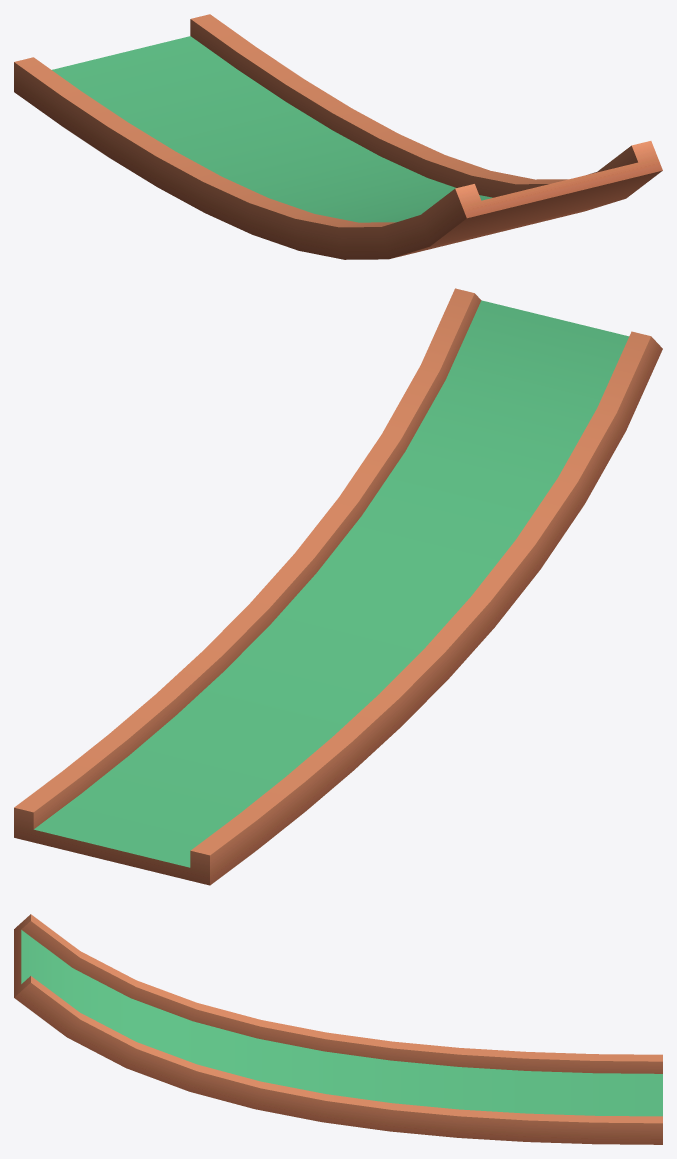
The model's file is spline-default-straight-hill-beginning.glb.
The picture shows the model from 3 angles, top to bottom: view 1: azimuth 30°, elevation 25°; view 2: azimuth 150°, elevation 25°; view 3: azimuth 270°, elevation 25°; orthographic projection. The views are drawn at different scales.
Parts seen in each view (by area): view 1: spline-default-straight-hill-beginning; view 2: spline-default-straight-hill-beginning; view 3: spline-default-straight-hill-beginning.
Part boxes in pixels (box(x1,y1,x2,y2)): spline-default-straight-hill-beginning: box(14, 14, 662, 259); spline-default-straight-hill-beginning: box(14, 288, 662, 885); spline-default-straight-hill-beginning: box(14, 914, 662, 1144).
Size of the model in its own units: 1 by 1.1 by 4.
Materials: 1 (1 with a texture image).
